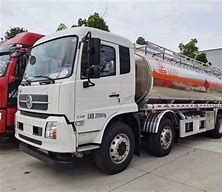oil truck: (14, 30, 220, 171)
